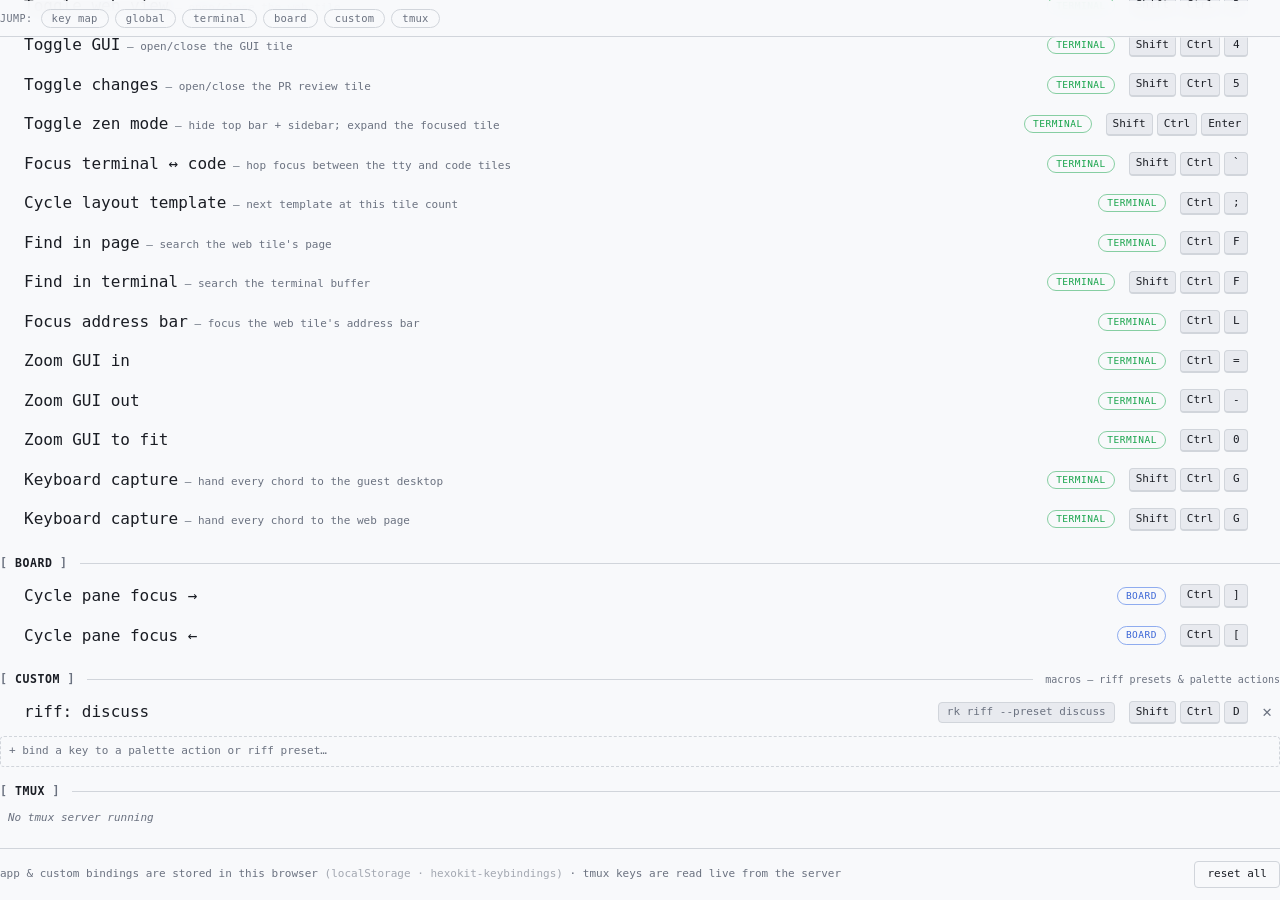
Test case: SettingsShortcutsPanel CUSTOM section (260730-hbyh) › delete removes the macro definition and its keybindings diff
This screenshot has width=1280, height=900.
Click the button named "Delete macro riff: discuss": (1267, 712) [1262,700,1272,724]
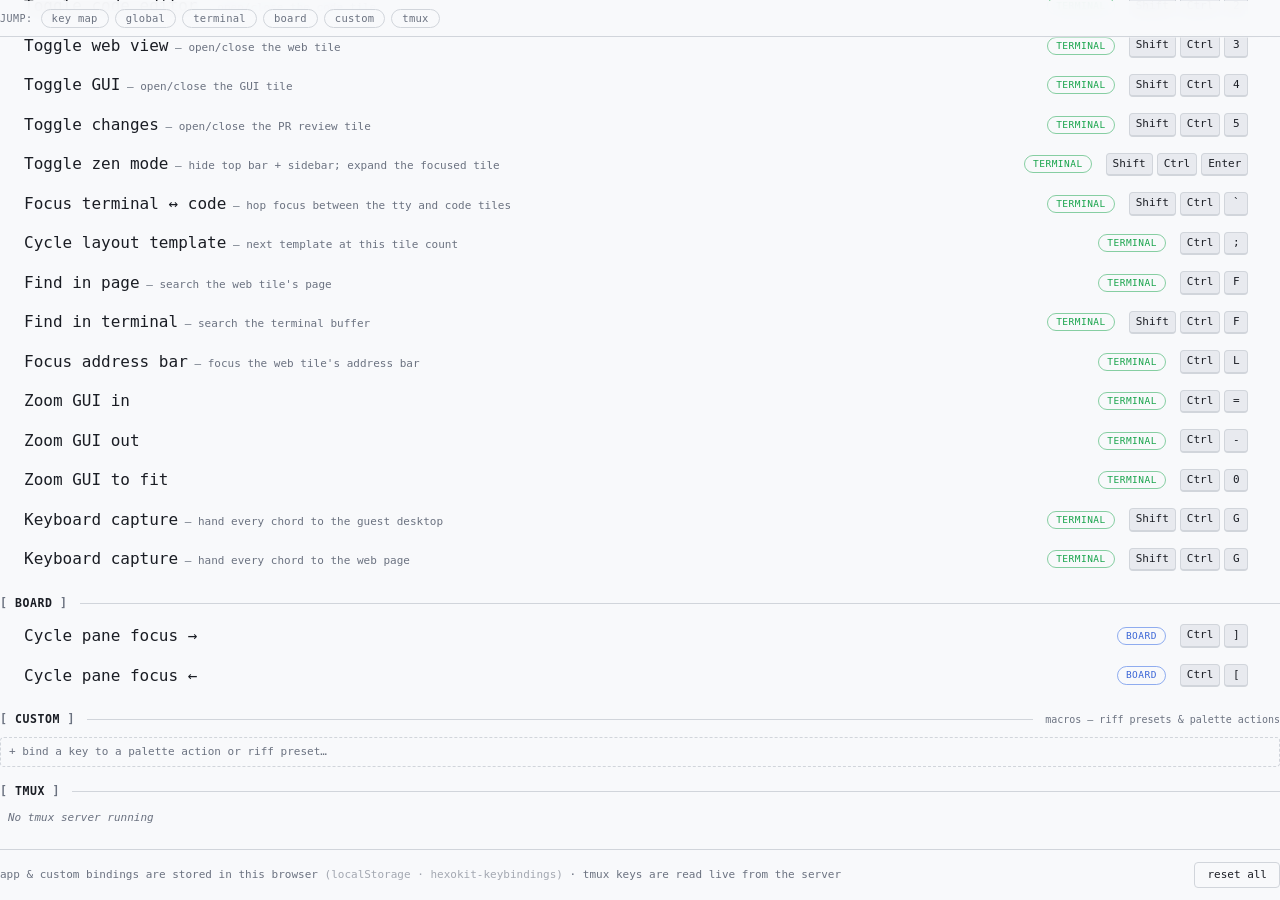
Now the text "rk riff --preset discuss" is gone
